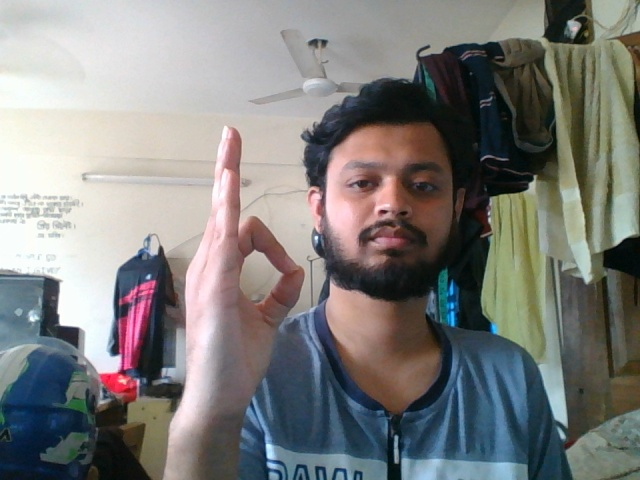ca: (164, 119, 319, 437)
